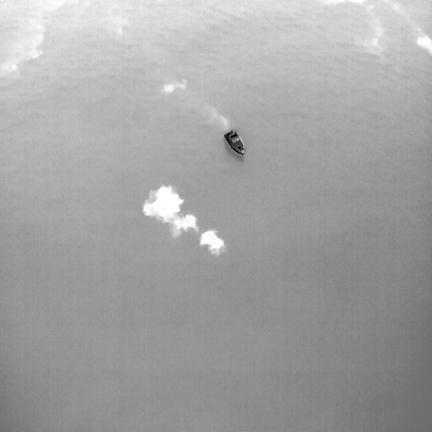flukeprints: (143, 186, 183, 222), (200, 230, 224, 255), (172, 214, 197, 233)
